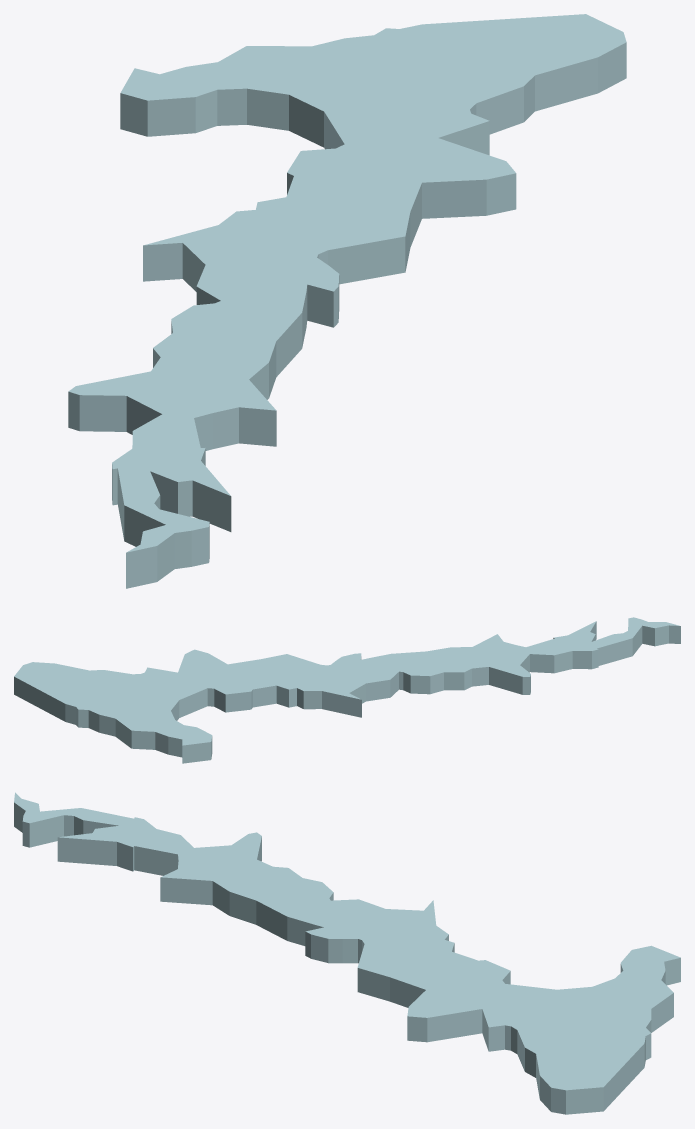
Rendered from deepcreek3.glb.
The picture shows the model from 3 angles, top to bottom: view 1: azimuth 30°, elevation 25°; view 2: azimuth 150°, elevation 25°; view 3: azimuth 270°, elevation 25°; orthographic projection. The views are drawn at different scales.
Parts seen in each view (by area): view 1: deepcreek; view 2: deepcreek; view 3: deepcreek.
Boxes of the visible parts, x1,y1,x2,y2 form: deepcreek: (68,14,626,588); deepcreek: (14,617,680,763); deepcreek: (14,792,680,1114).
Size of the model in its own units: 1.49 by 0.0568 by 1.41.
